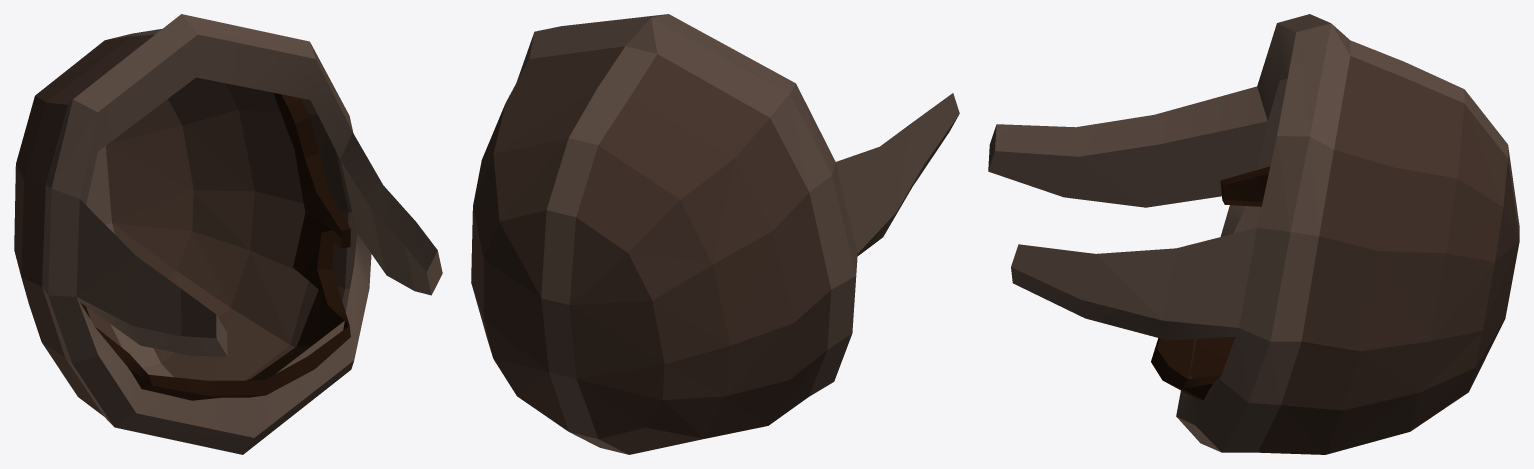
Rendered from Hat 06.FBX.
The picture shows the model from 3 angles, left to right: view 1: azimuth 30°, elevation 25°; view 2: azimuth 150°, elevation 25°; view 3: azimuth 270°, elevation 25°; orthographic projection. The views are drawn at different scales.
Parts seen in each view (by area): view 1: Hat 06, Hair Headgear; view 2: Hat 06; view 3: Hat 06, Hair Headgear.
Part boxes in pixels (left/top/right/bottom): Hat 06: left=14, top=14, right=442, bottom=454; Hair Headgear: left=80, top=93, right=350, bottom=400; Hat 06: left=471, top=14, right=959, bottom=454; Hat 06: left=988, top=14, right=1519, bottom=454; Hair Headgear: left=1151, top=166, right=1270, bottom=400.
Size of the model in its own units: 37.62 by 50.42 by 43.98.
